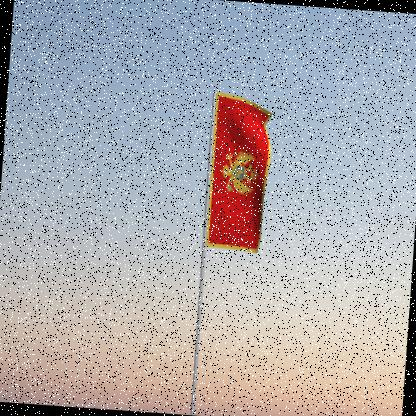me: (207, 93, 278, 256)
